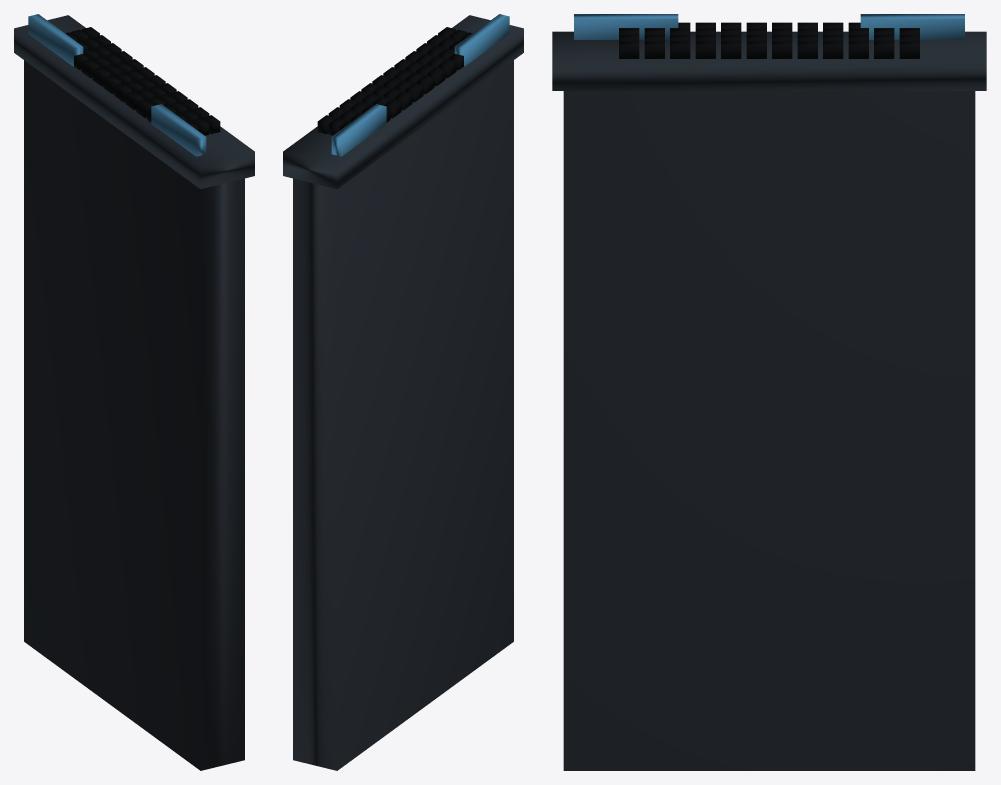
Rendered from module_linecard_48ge.glb.
3 renders of one model, left to right at view 1: azimuth 30°, elevation 25°; view 2: azimuth 150°, elevation 25°; view 3: azimuth 270°, elevation 25°, orthographic. The views are drawn at different scales.
Visible parts, largest first — view 1: linecard_body, linecard_face, ejector_top, ejector_bottom; view 2: linecard_body, linecard_face, ejector_bottom, ejector_top; view 3: linecard_body, linecard_face, ejector_top, ejector_bottom.
Part boxes in pixels (x1=…): linecard_body: x1=24, y1=60, x2=244, y2=770; linecard_face: x1=14, y1=15, x2=254, y2=189; ejector_top: x1=151, y1=104, x2=206, y2=156; ejector_bottom: x1=28, y1=14, x2=83, y2=66; linecard_body: x1=293, y1=60, x2=513, y2=770; linecard_face: x1=283, y1=15, x2=523, y2=189; ejector_bottom: x1=331, y1=104, x2=386, y2=156; ejector_top: x1=454, y1=14, x2=509, y2=66; linecard_body: x1=563, y1=91, x2=975, y2=770; linecard_face: x1=552, y1=31, x2=986, y2=90; ejector_top: x1=574, y1=14, x2=678, y2=39; ejector_bottom: x1=860, y1=14, x2=964, y2=39.
Size of the model in its own units: 0.0325 by 0.359 by 0.193.
